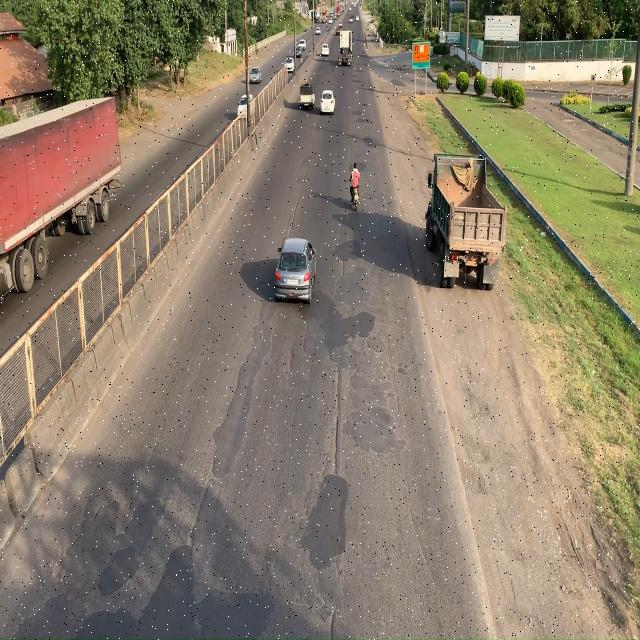Truck: (426, 150, 505, 292)
cars: (272, 235, 318, 305), (298, 84, 317, 110), (321, 85, 335, 120)
